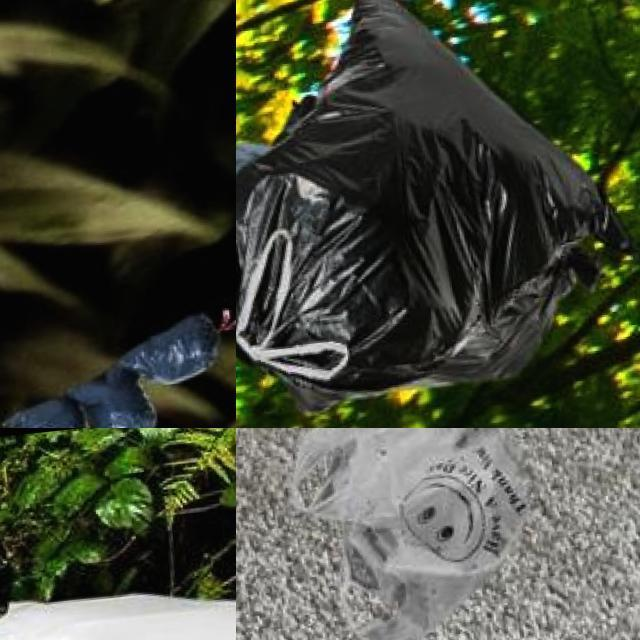waste: (236, 0, 634, 395), (280, 428, 548, 640), (0, 571, 236, 640), (109, 320, 222, 384), (71, 367, 158, 428), (10, 393, 97, 428)
